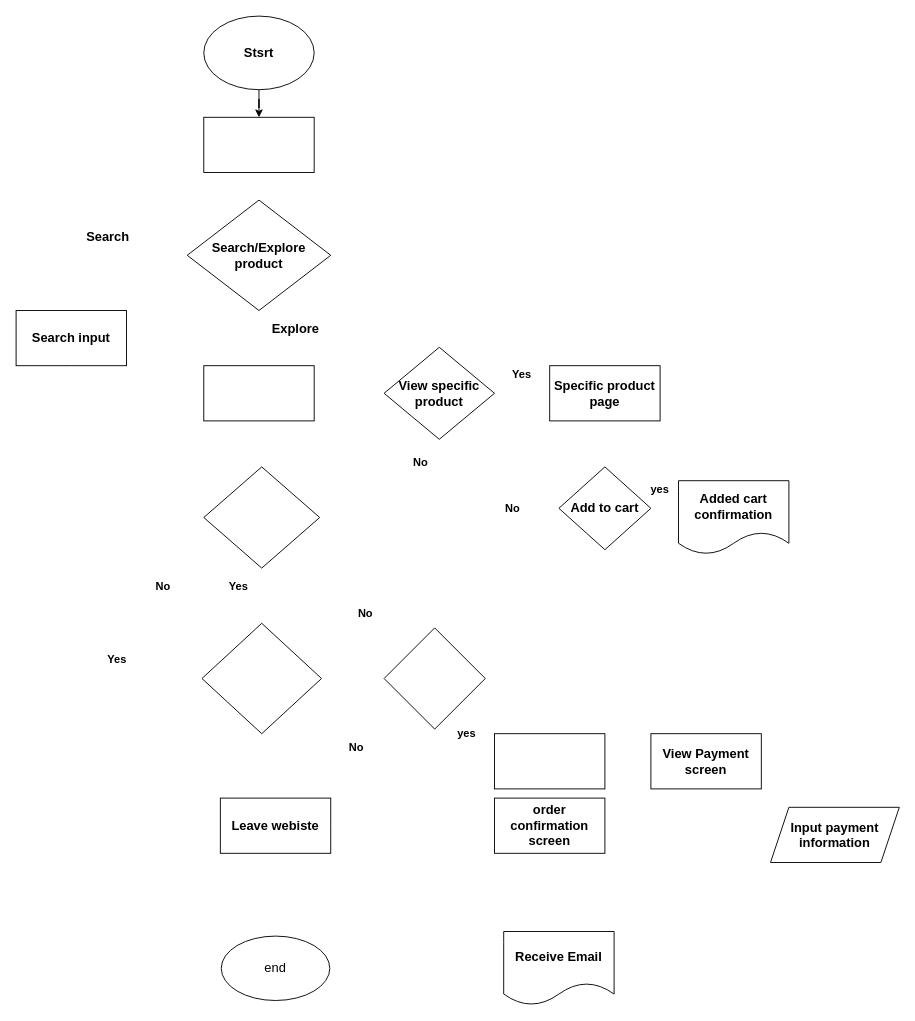
Some shapes in this 915 by 1021 pixel diagram are drawn without their labels. Here are the shapes that lost their labels. From the top down, the centre of each, then its label:
At point 258,144: "Enter website".
At point 258,393: "Look over procuct".
At point 261,517: "continue shopping".
At point 261,678: "Search new product".
At point 434,678: "checkout".
At point 549,761: "View cart screen".
